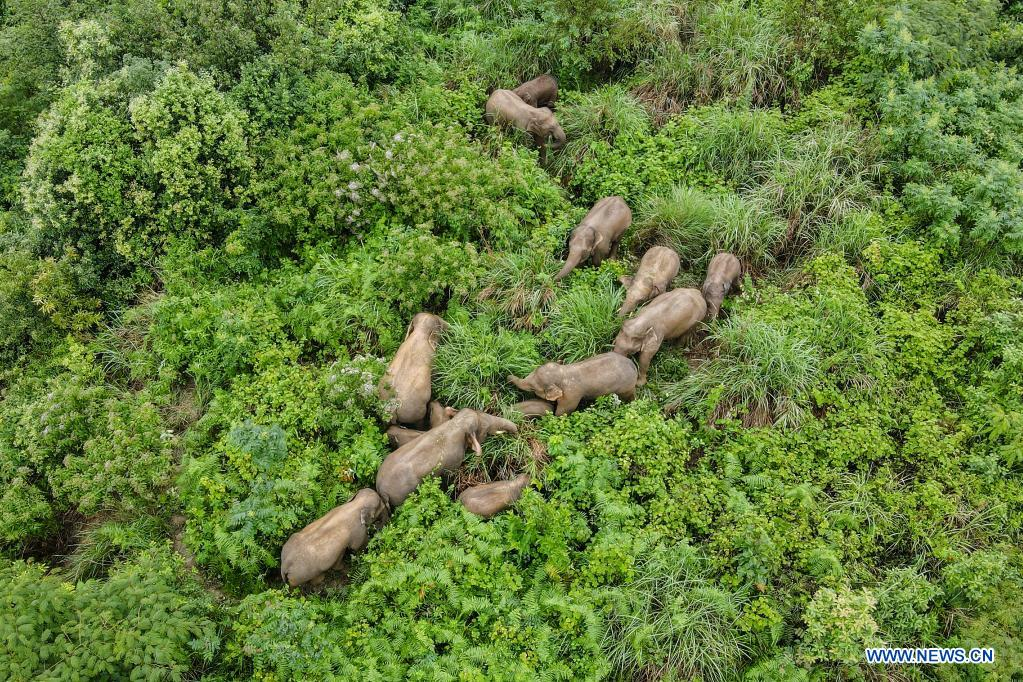Adult Elephant: (354, 403, 521, 493), (248, 481, 382, 588), (363, 301, 453, 410), (505, 342, 645, 412), (611, 288, 750, 357), (549, 185, 642, 272), (465, 81, 565, 149), (443, 474, 552, 524), (619, 236, 683, 311), (701, 247, 747, 316)
Baby Elephant: (505, 65, 554, 106), (421, 397, 461, 431), (379, 427, 437, 446)
